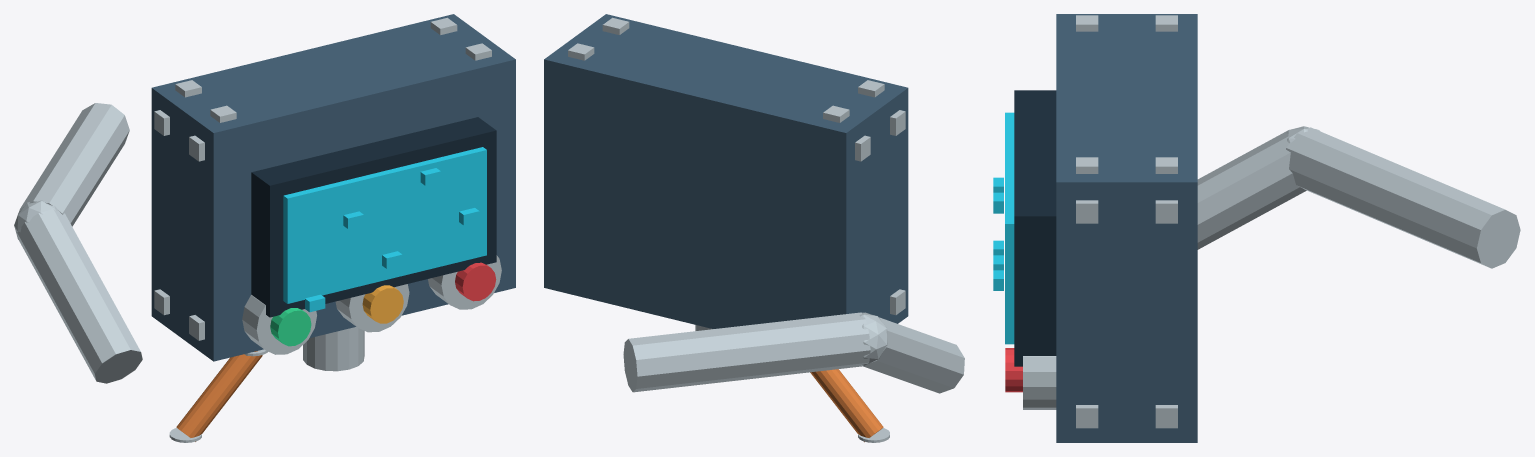
The model's file is 21_L77_BulkPadWearMeasurementProbe.fbx.
3 views of the same model, side by side, from view 1: azimuth 30°, elevation 25°; view 2: azimuth 150°, elevation 25°; view 3: azimuth 270°, elevation 25° (orthographic). The views are drawn at different scales.
Parts seen in each view (by area): view 1: BulkPadWearMeasurementProbe; view 2: BulkPadWearMeasurementProbe; view 3: BulkPadWearMeasurementProbe.
Boxes of the visible parts, bbox=[...] form: BulkPadWearMeasurementProbe: bbox=[14, 14, 515, 442]; BulkPadWearMeasurementProbe: bbox=[544, 14, 964, 442]; BulkPadWearMeasurementProbe: bbox=[993, 14, 1520, 442].
Bounding box in the file's own units: 58.9 × 48.28 × 59.57.
